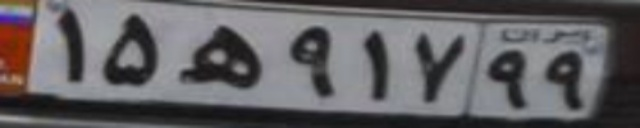1: (55, 9, 83, 81), (360, 29, 388, 98)
5: (94, 12, 161, 85)
7: (412, 31, 466, 102)
9: (289, 25, 332, 95), (542, 49, 583, 109), (486, 48, 526, 107)
he: (178, 23, 264, 88)
